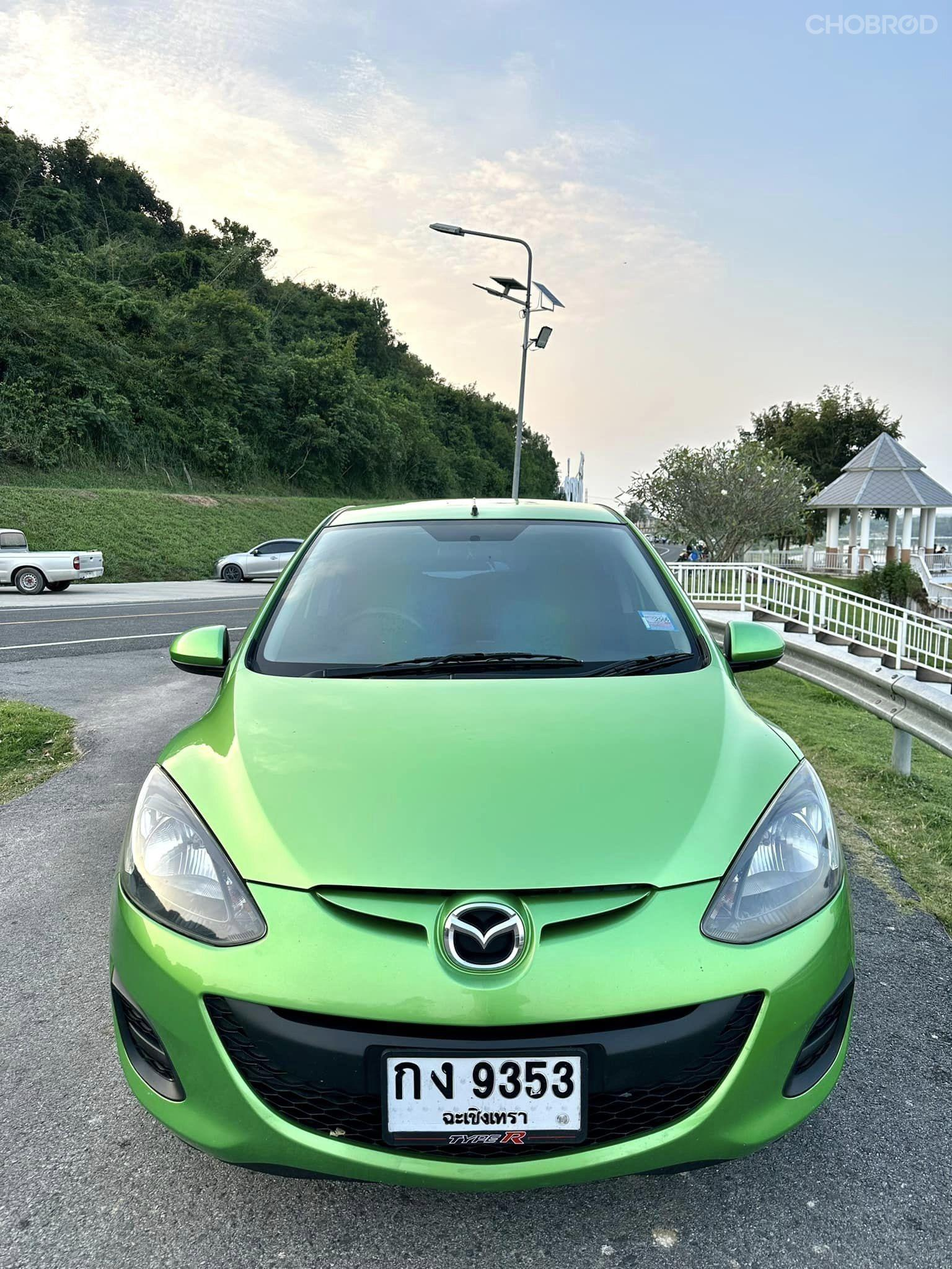license-plate: (373, 1045, 595, 1148)
